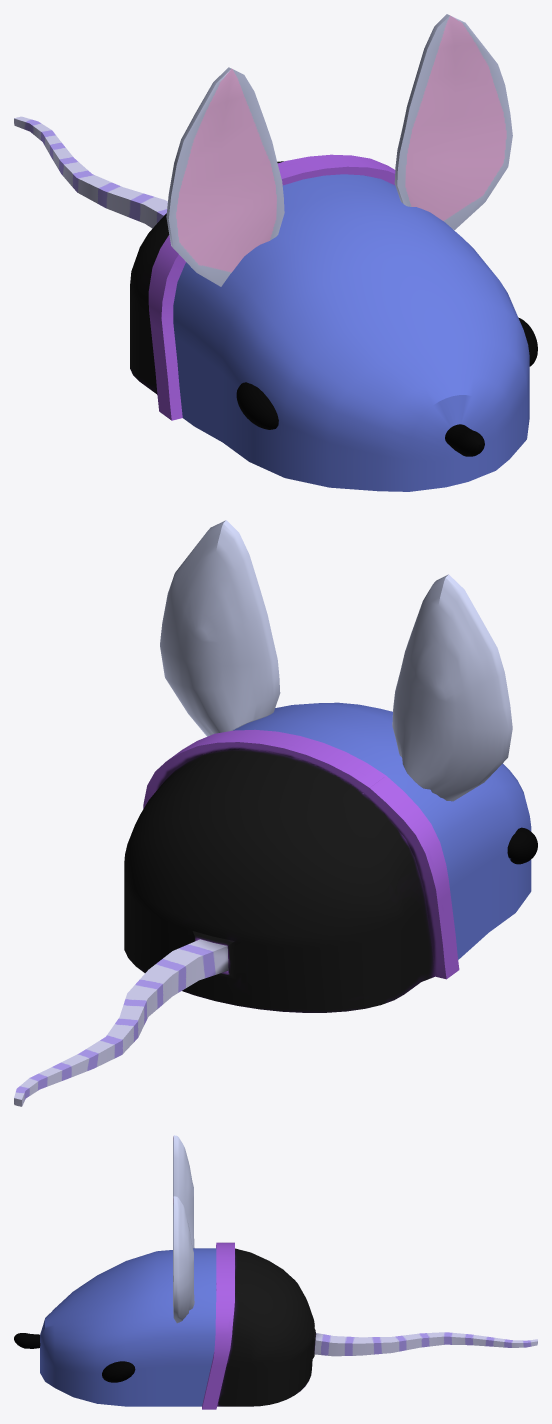
File: Micean_Final_Maybe.fbx
3 views of the same model, one above another, from view 1: azimuth 30°, elevation 25°; view 2: azimuth 150°, elevation 25°; view 3: azimuth 270°, elevation 25° (orthographic). The views are drawn at different scales.
Visible parts, largest first — view 1: pSphere7; view 2: pSphere7; view 3: pSphere7.
Boxes of the visible parts, x1,y1,x2,y2 form: pSphere7: (14,14,537,491); pSphere7: (14,520,537,1106); pSphere7: (14,1135,537,1409).
Size of the model in its own units: 4.71 by 4.73 by 10.85.
1 material, 1 textured.
